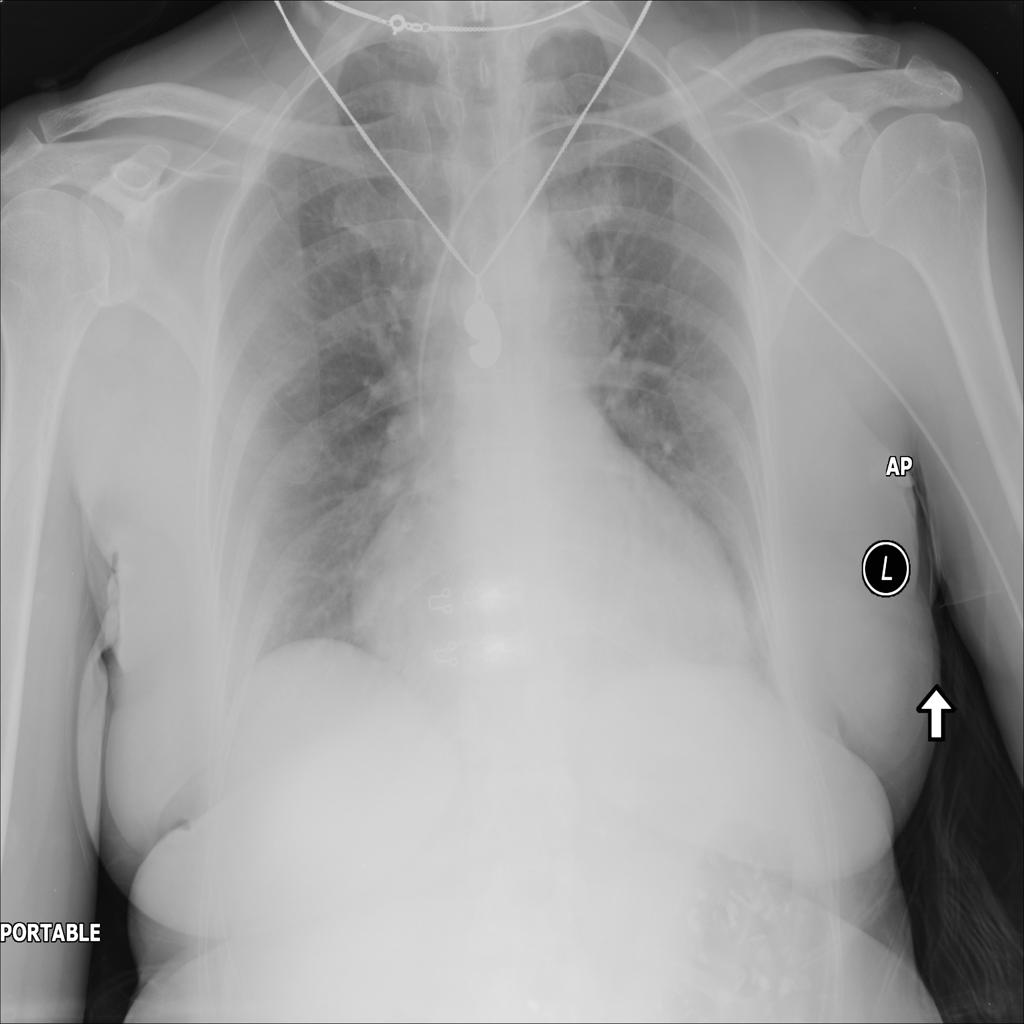Cardiomegaly: (352, 340, 750, 736)
